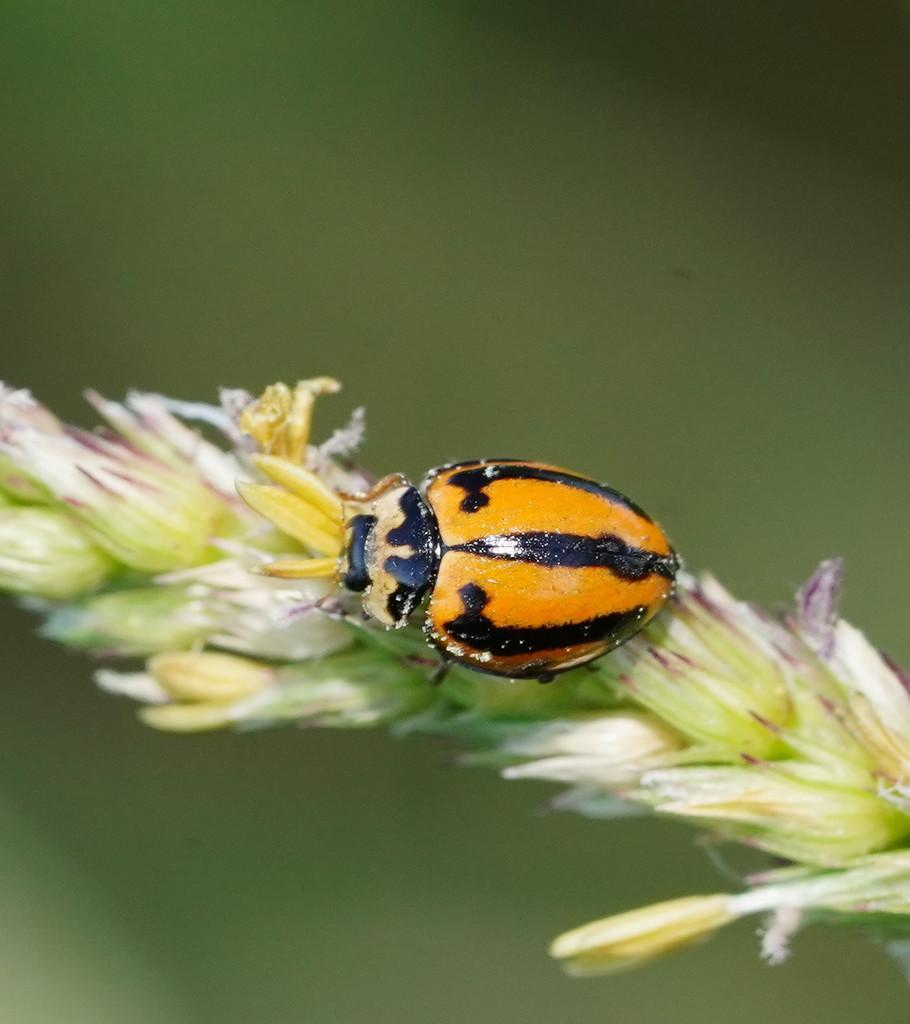ladybug: (316, 454, 686, 691)
